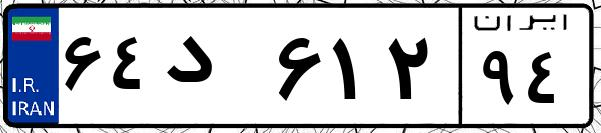1: (330, 28, 385, 110)
2: (385, 28, 445, 110)
4: (525, 38, 570, 115), (110, 28, 158, 98)
6: (270, 28, 330, 110), (57, 26, 110, 100)
9: (475, 38, 525, 113)
د: (158, 20, 270, 120)
